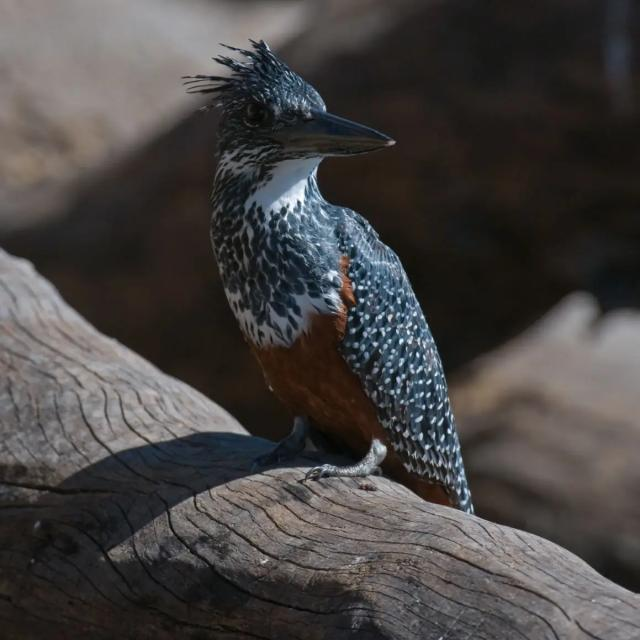kingfisher: (144, 30, 496, 525)
